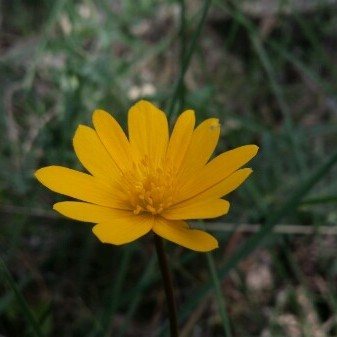obstacle: (30, 94, 269, 265)
